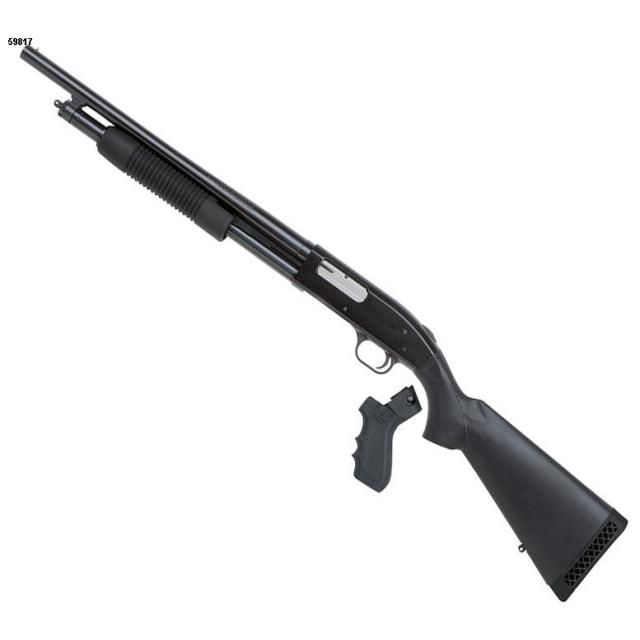ShotGun: (10, 38, 631, 604)
